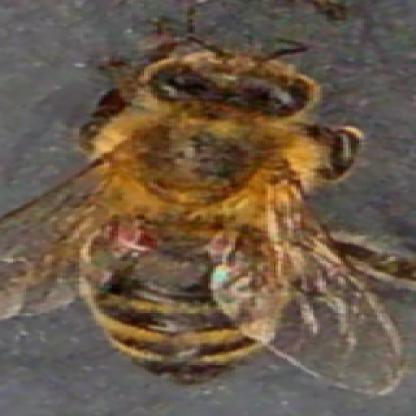bee: (67, 34, 328, 386)
vaoora: (110, 223, 158, 255)
